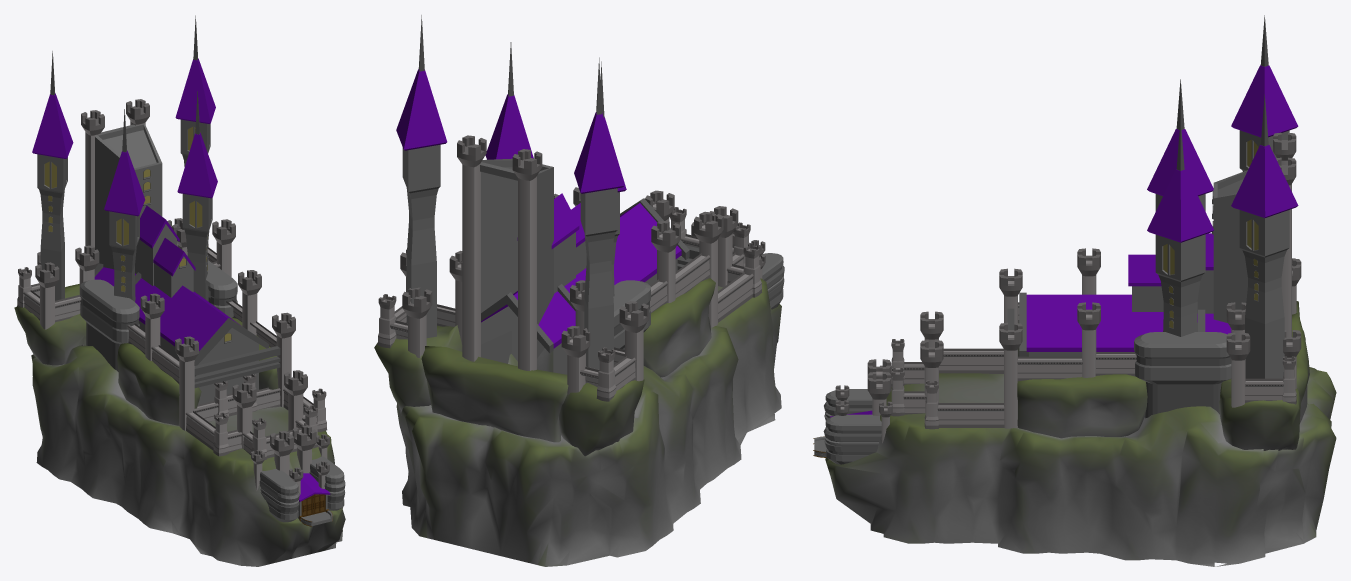
The model's file is mesh_CAstke_Renake.fbx.
The picture shows the model from 3 angles, left to right: view 1: azimuth 30°, elevation 25°; view 2: azimuth 150°, elevation 25°; view 3: azimuth 270°, elevation 25°; orthographic projection. The views are drawn at different scales.
Visible parts, largest first — view 1: CAstke_Renake; view 2: CAstke_Renake; view 3: CAstke_Renake.
Part boxes in pixels (x1,y1,x2,y2): CAstke_Renake: (14, 15, 345, 566); CAstke_Renake: (374, 15, 784, 566); CAstke_Renake: (813, 15, 1336, 566).
Size of the model in its own units: 42433 by 79433 by 82715.
Materials: 4 (4 with a texture image).
